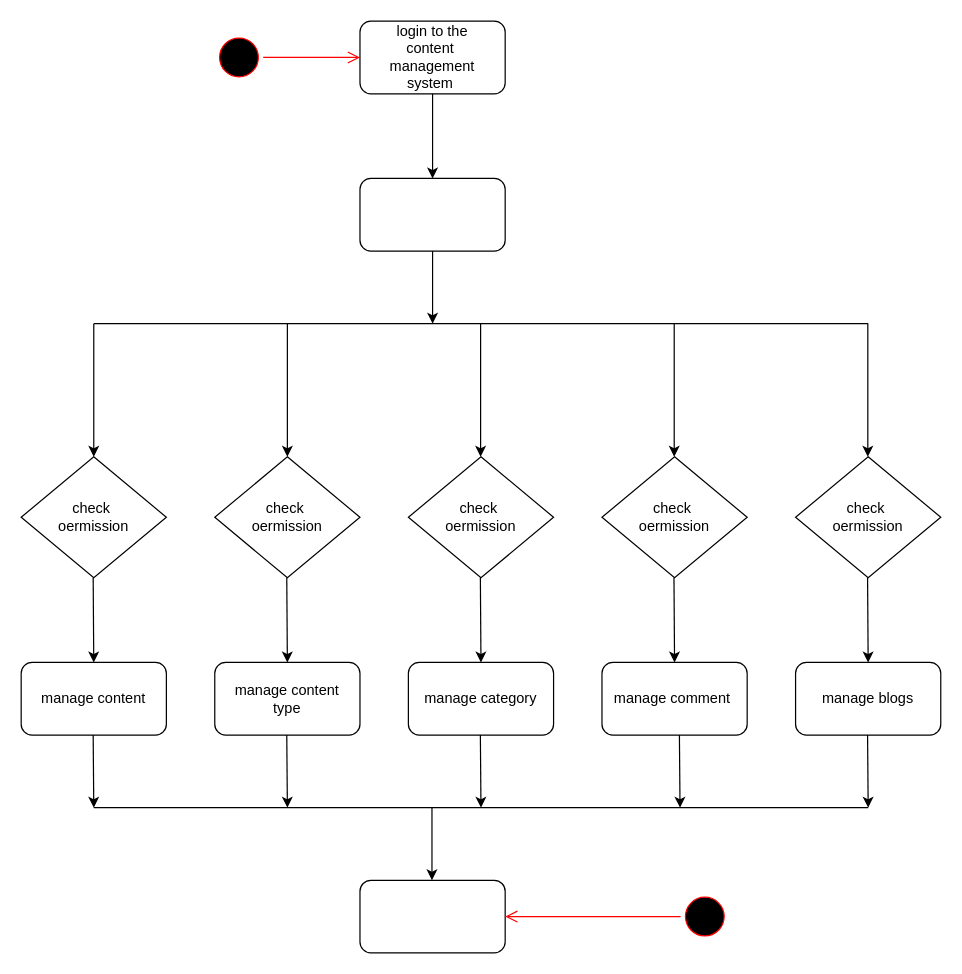
Image size: 962x974. Some labels were removed from this diagram. The centre of each missing label's shape, as x and y in pixels:
check user level and permission: pixel 432 214
logout from the system: pixel 432 916
